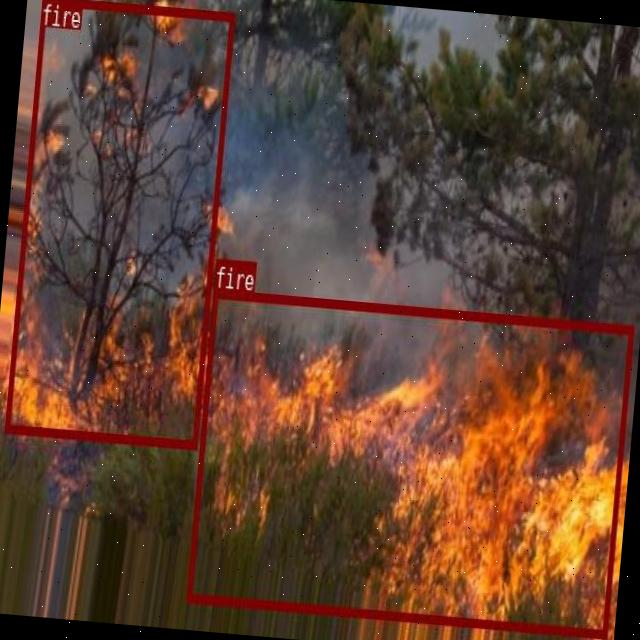fire: (185, 288, 632, 636), (4, 0, 233, 447)
